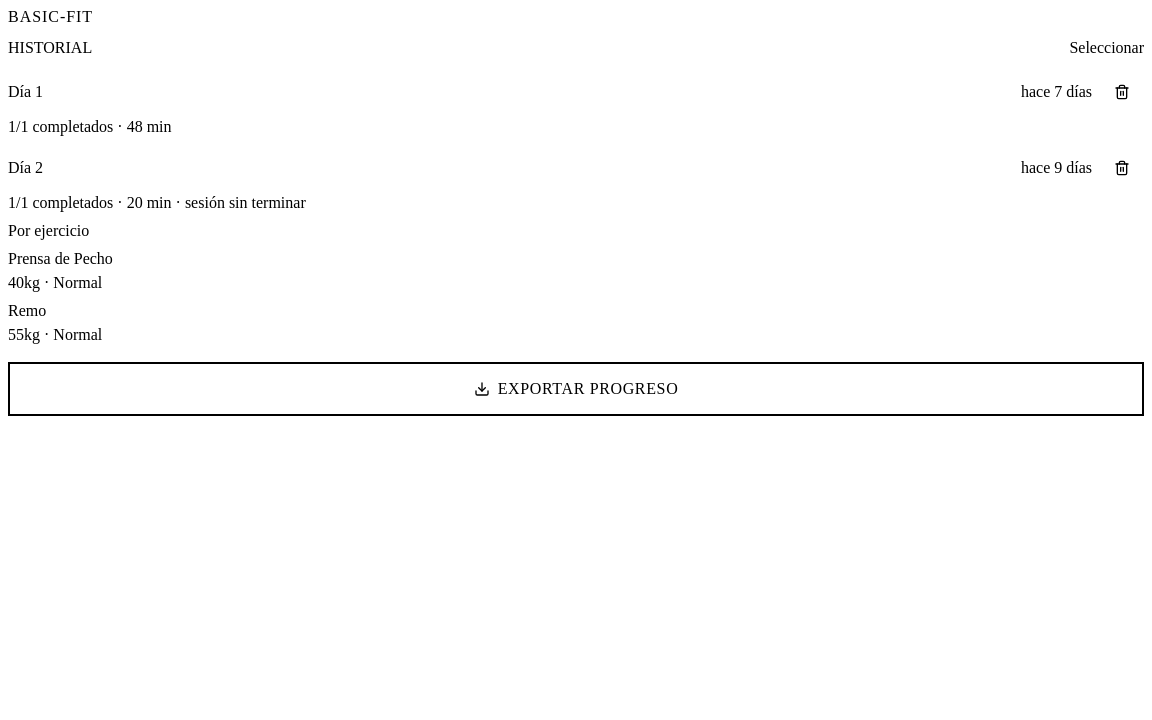
Scenario: HistoryScreen — after deletion (AC20, AC21, AC22) › removes the session from the list and the trends block (AC20)
The image size is (1152, 720).
Expected: the text "Día 1" is shown, [8, 83, 43, 100]
Expected: the text "Prensa de Pecho" is shown, [8, 250, 113, 267]
Click the button named "borrar sesión día 1" at (1122, 92), box [1100, 70, 1144, 114]
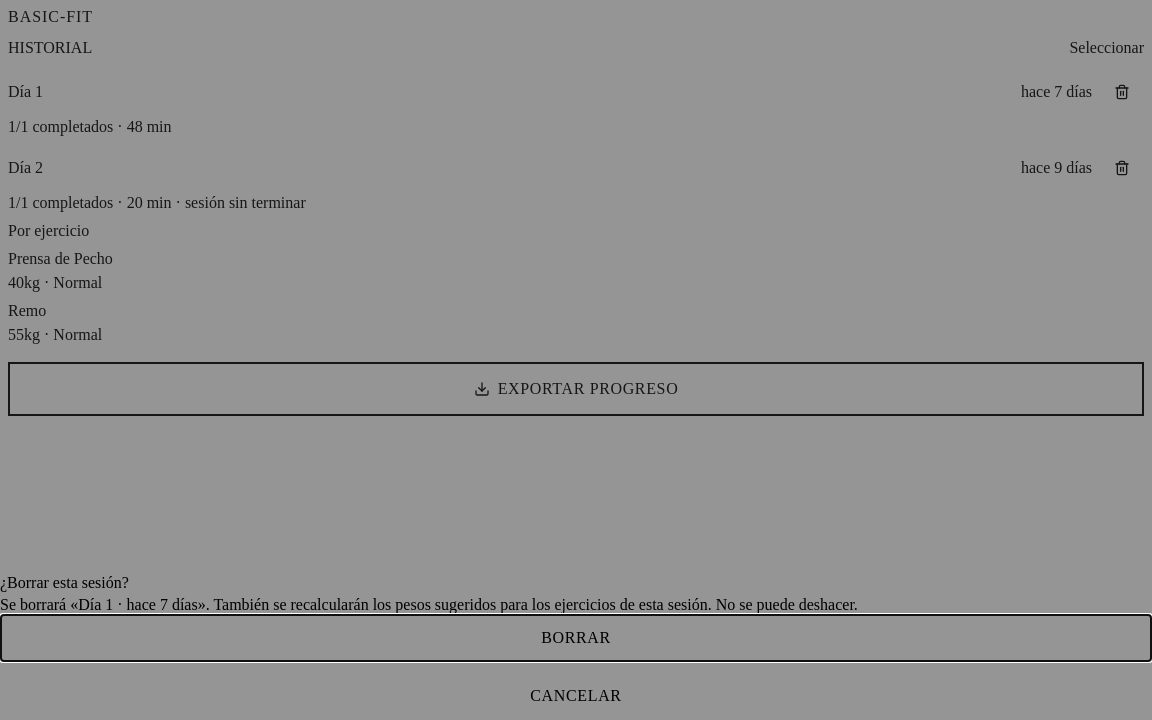
Click the button "Borrar" at (576, 638), box [0, 614, 1151, 662]
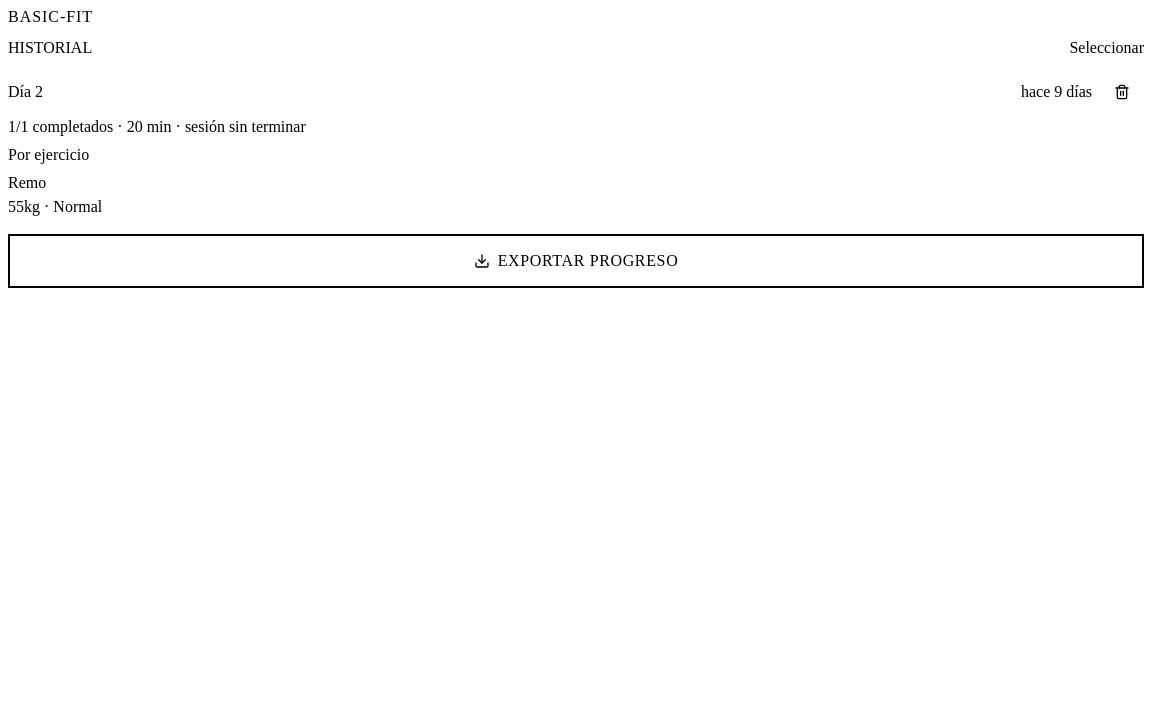
Expected: the text "Remo" is shown, [8, 174, 46, 191]
Expected: the text "Día 1" is gone
Expected: the text "Prensa de Pecho" is gone
